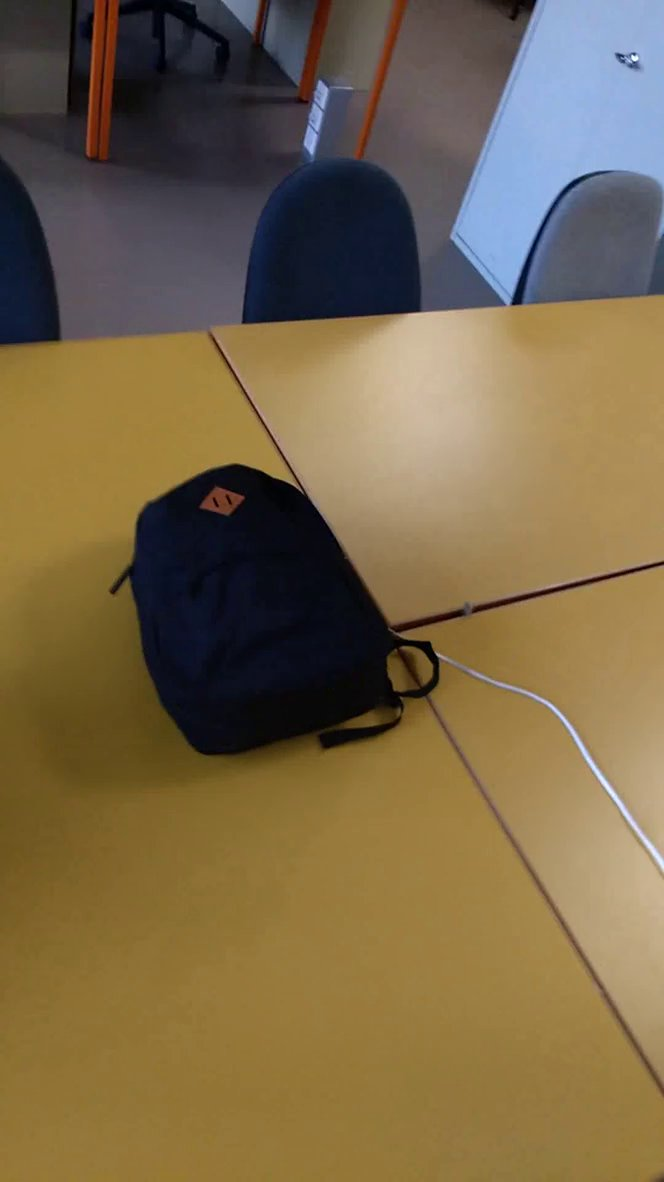bag: (101, 456, 451, 770)
chair: (236, 146, 426, 337), (501, 159, 664, 335)
